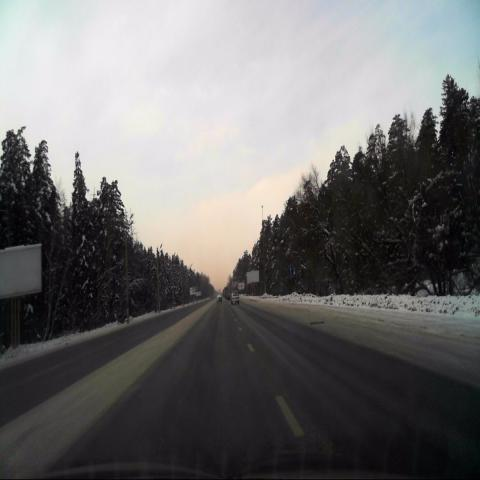4_1_1: (288, 266, 294, 277)
